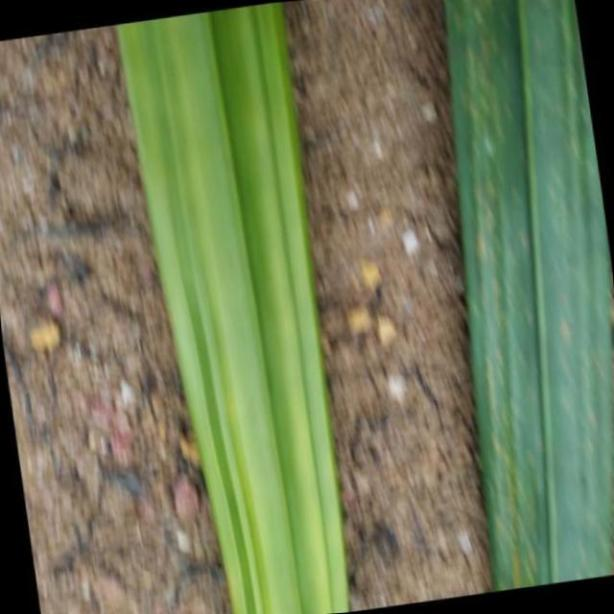nitrogen: (108, 0, 348, 614)
